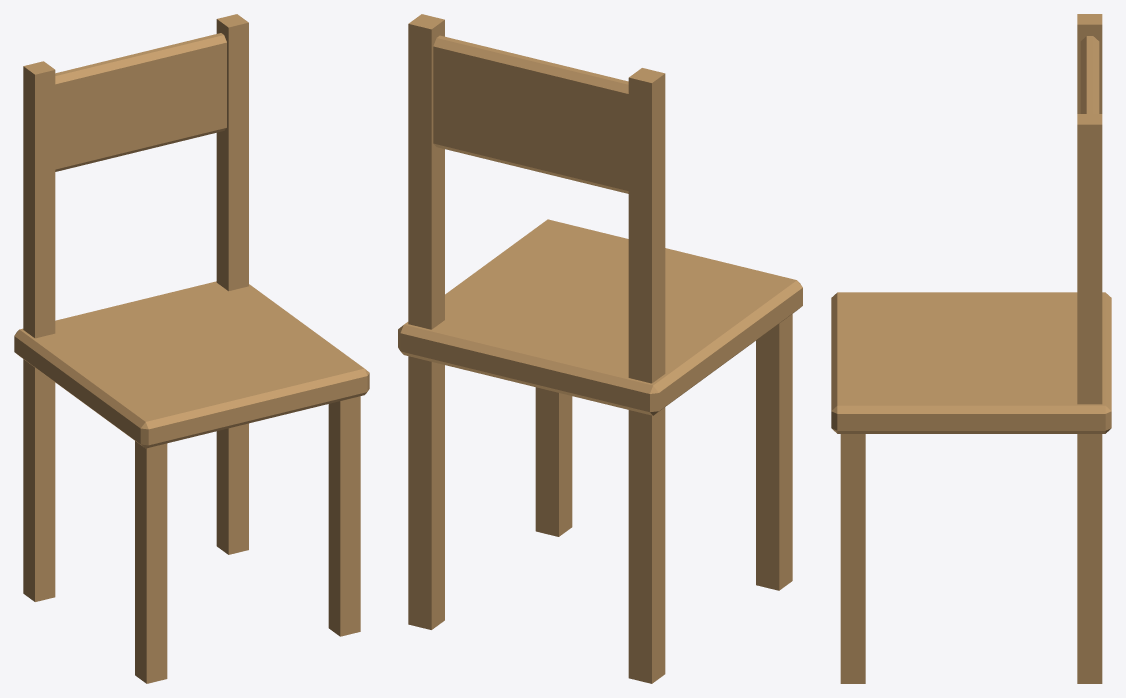
The model's file is chair.glb.
The picture shows the model from 3 angles, left to right: view 1: azimuth 30°, elevation 25°; view 2: azimuth 150°, elevation 25°; view 3: azimuth 270°, elevation 25°; orthographic projection. The views are drawn at different scales.
Parts seen in each view (by area): view 1: chair; view 2: chair; view 3: chair.
Part boxes in pixels (x1,y1,x2,y2): chair: (14,14,369,683); chair: (398,14,802,683); chair: (831,14,1111,683).
Bounding box in the file's own units: 0.45 × 0.99 × 0.45.
